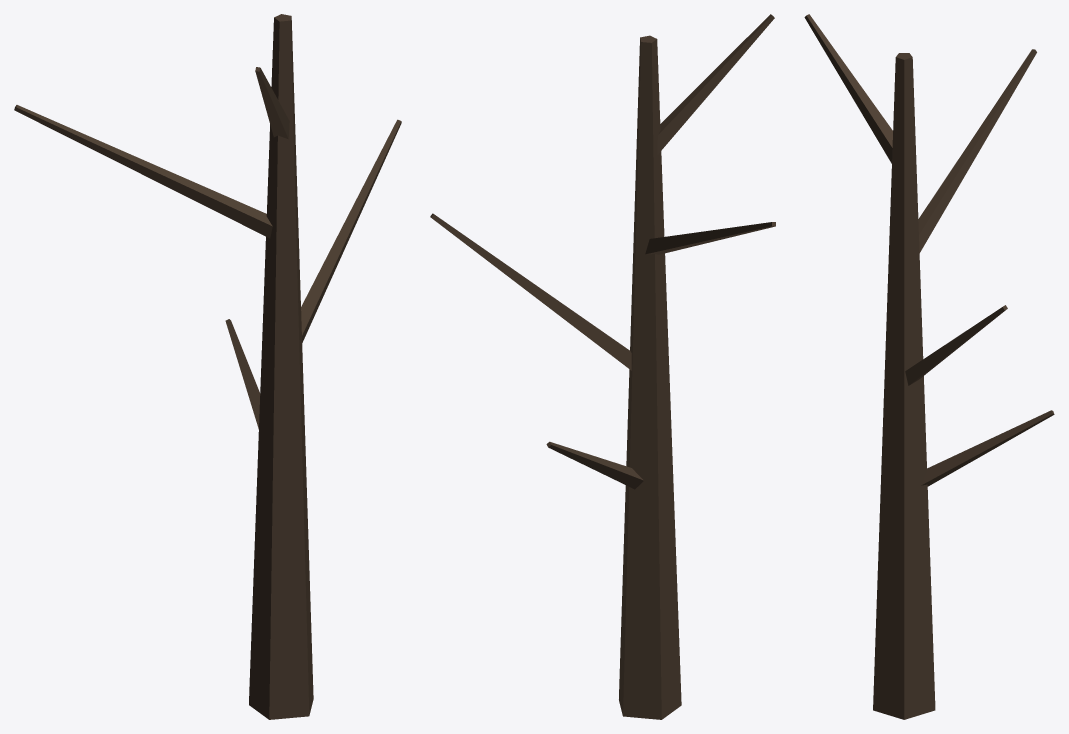
The model's file is tree_dead_lod1.glb.
3 renders of one model, left to right at view 1: azimuth 30°, elevation 25°; view 2: azimuth 150°, elevation 25°; view 3: azimuth 270°, elevation 25°, orthographic. The views are drawn at different scales.
Visible parts, largest first — view 1: tree_dead_lod1; view 2: tree_dead_lod1; view 3: tree_dead_lod1.
Part boxes in pixels (x1=…): tree_dead_lod1: x1=14, y1=14, x2=401, y2=719; tree_dead_lod1: x1=430, y1=14, x2=775, y2=719; tree_dead_lod1: x1=804, y1=14, x2=1054, y2=719.
Size of what is drawn, in the model's own units: 2.71 by 4.85 by 1.67.
1 material, 1 textured.
